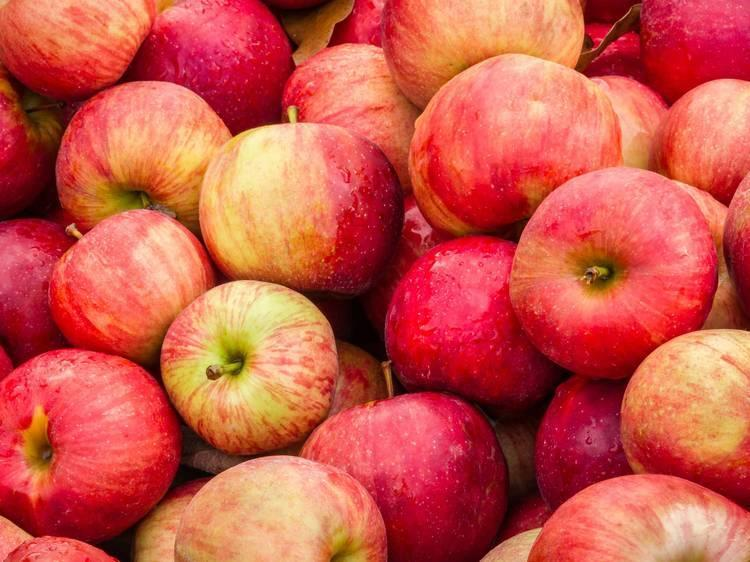apple: (505, 165, 724, 385), (411, 51, 621, 233), (296, 386, 510, 561), (1, 350, 186, 544), (197, 122, 400, 297), (382, 235, 562, 417), (156, 278, 339, 456), (51, 81, 245, 232), (45, 208, 214, 367), (172, 455, 389, 562), (618, 328, 748, 503), (128, 1, 295, 132), (384, 1, 586, 108), (281, 40, 419, 188), (518, 472, 750, 560), (1, 1, 156, 102), (1, 216, 79, 366), (1, 68, 72, 217), (479, 526, 544, 561)
